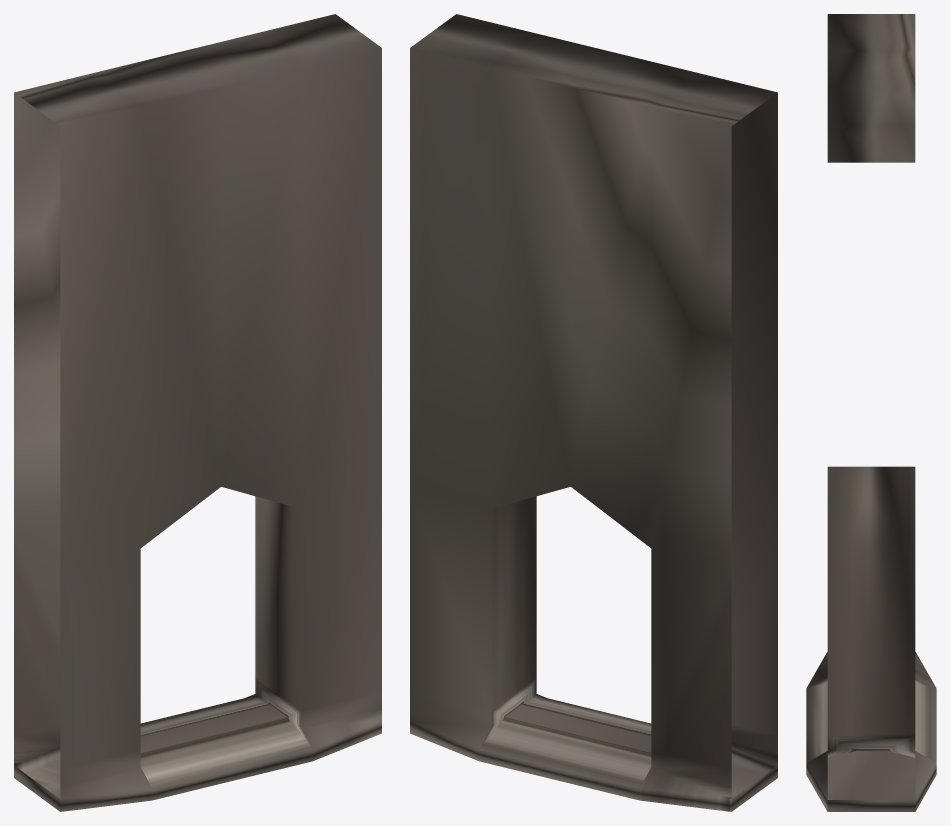
The model's file is towerblock_entry_sm.glb.
3 renders of one model, left to right at view 1: azimuth 30°, elevation 25°; view 2: azimuth 150°, elevation 25°; view 3: azimuth 270°, elevation 25°, orthographic. The views are drawn at different scales.
Parts seen in each view (by area): view 1: towerblock_entry_sm; view 2: towerblock_entry_sm; view 3: towerblock_entry_sm.
Part boxes in pixels (<box>): towerblock_entry_sm: <box>14,14,381,811</box>; towerblock_entry_sm: <box>410,14,777,811</box>; towerblock_entry_sm: <box>806,14,936,811</box>.
Bounding box in the file's own units: 4 × 8.15 × 1.48.
1 material, 1 textured.
